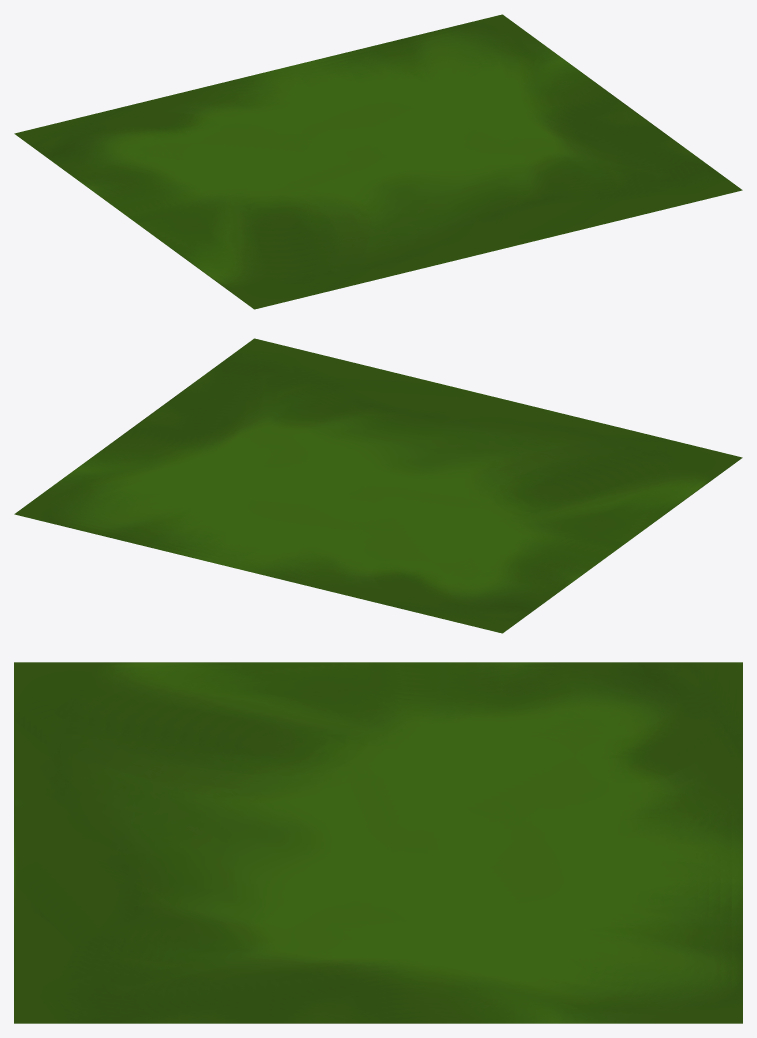
The model's file is Floor.fbx.
3 views of the same model, one above another, from view 1: azimuth 30°, elevation 25°; view 2: azimuth 150°, elevation 25°; view 3: azimuth 270°, elevation 25° (orthographic). The views are drawn at different scales.
Visible parts, largest first — view 1: Floor; view 2: Floor; view 3: Floor.
Boxes of the visible parts, box(x1,y1,x2,y2) form: Floor: box(14, 14, 742, 309); Floor: box(14, 338, 742, 633); Floor: box(14, 662, 742, 1023).
Bounding box in the file's own units: 22.71 × 0 × 19.35.
1 material, 1 textured.
